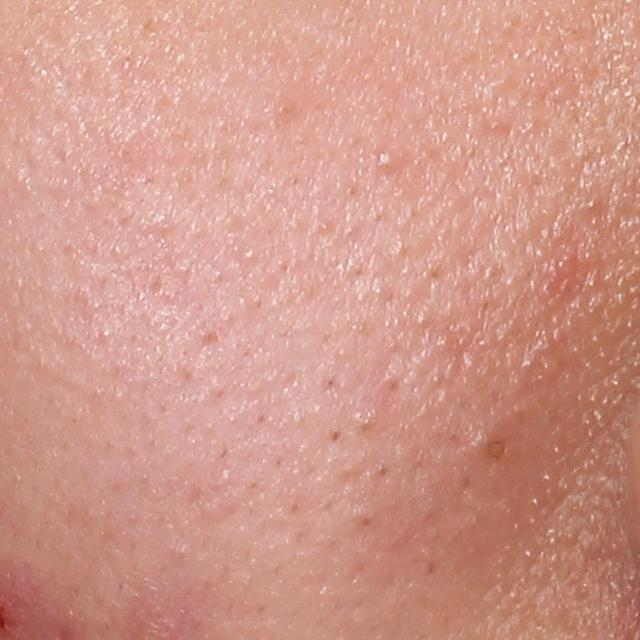comedo: (373, 147, 409, 177), (481, 435, 510, 466)
